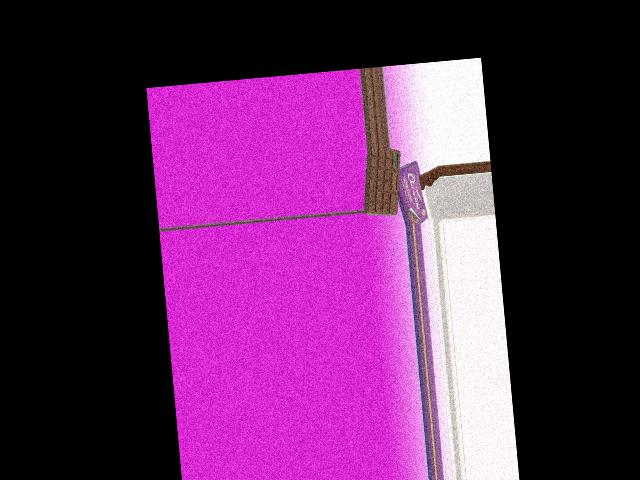chocolate: (358, 149, 407, 216)
